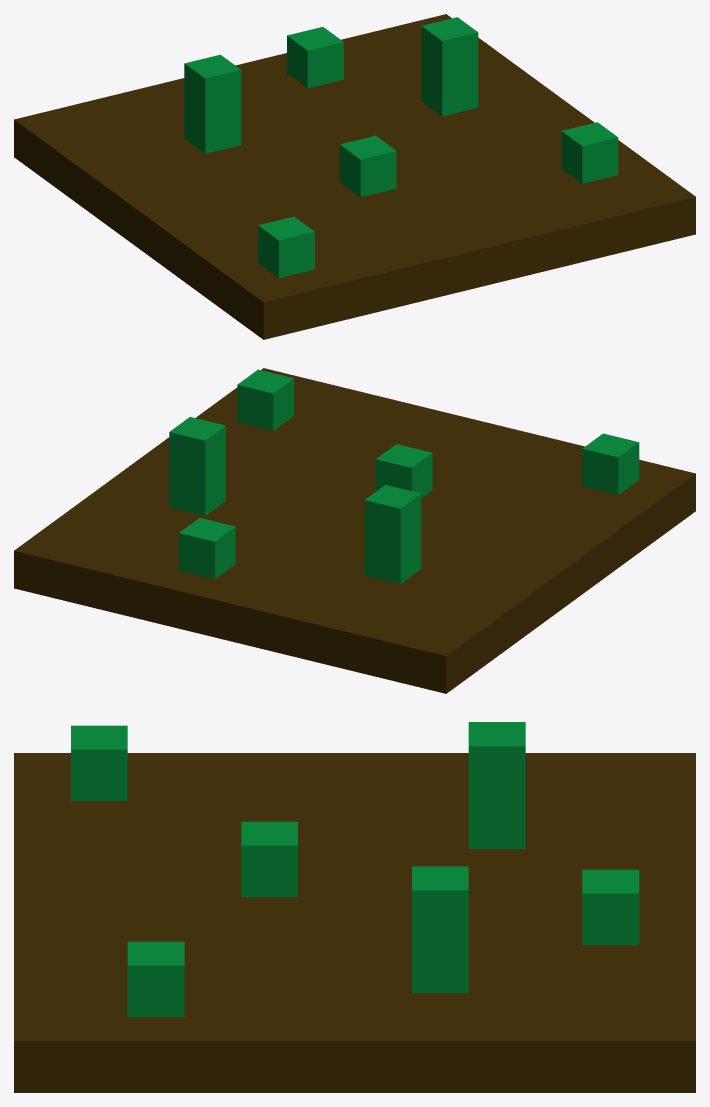
File: corn1.obj
3 views of the same model, one above another, from view 1: azimuth 30°, elevation 25°; view 2: azimuth 150°, elevation 25°; view 3: azimuth 270°, elevation 25° (orthographic). The views are drawn at different scales.
Parts seen in each view (by area): view 1: Matrix_4; view 2: Matrix_4; view 3: Matrix_4.
Part boxes in pixels (left/top/right/bottom): Matrix_4: left=14, top=14, right=695, bottom=339; Matrix_4: left=14, top=368, right=695, bottom=693; Matrix_4: left=14, top=722, right=695, bottom=1092.
Bounding box in the file's own units: 12 × 3 × 12.
Materials: 1 (1 with a texture image).
